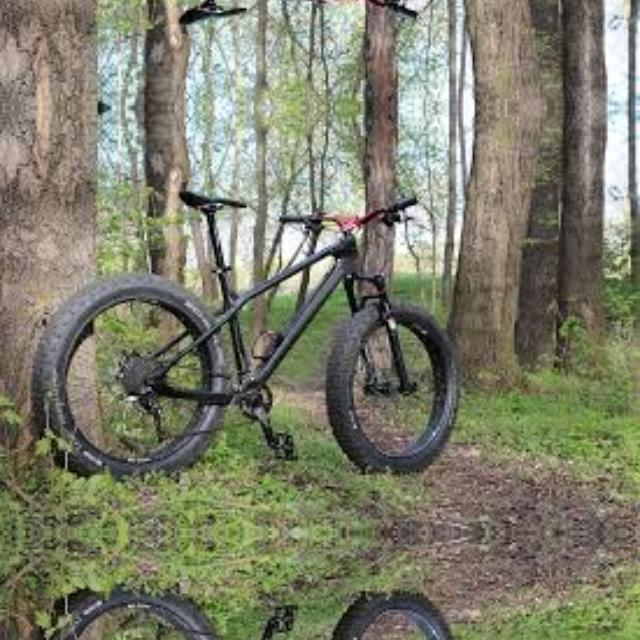obstacle: (25, 144, 489, 484), (25, 0, 489, 70), (25, 581, 489, 640)
